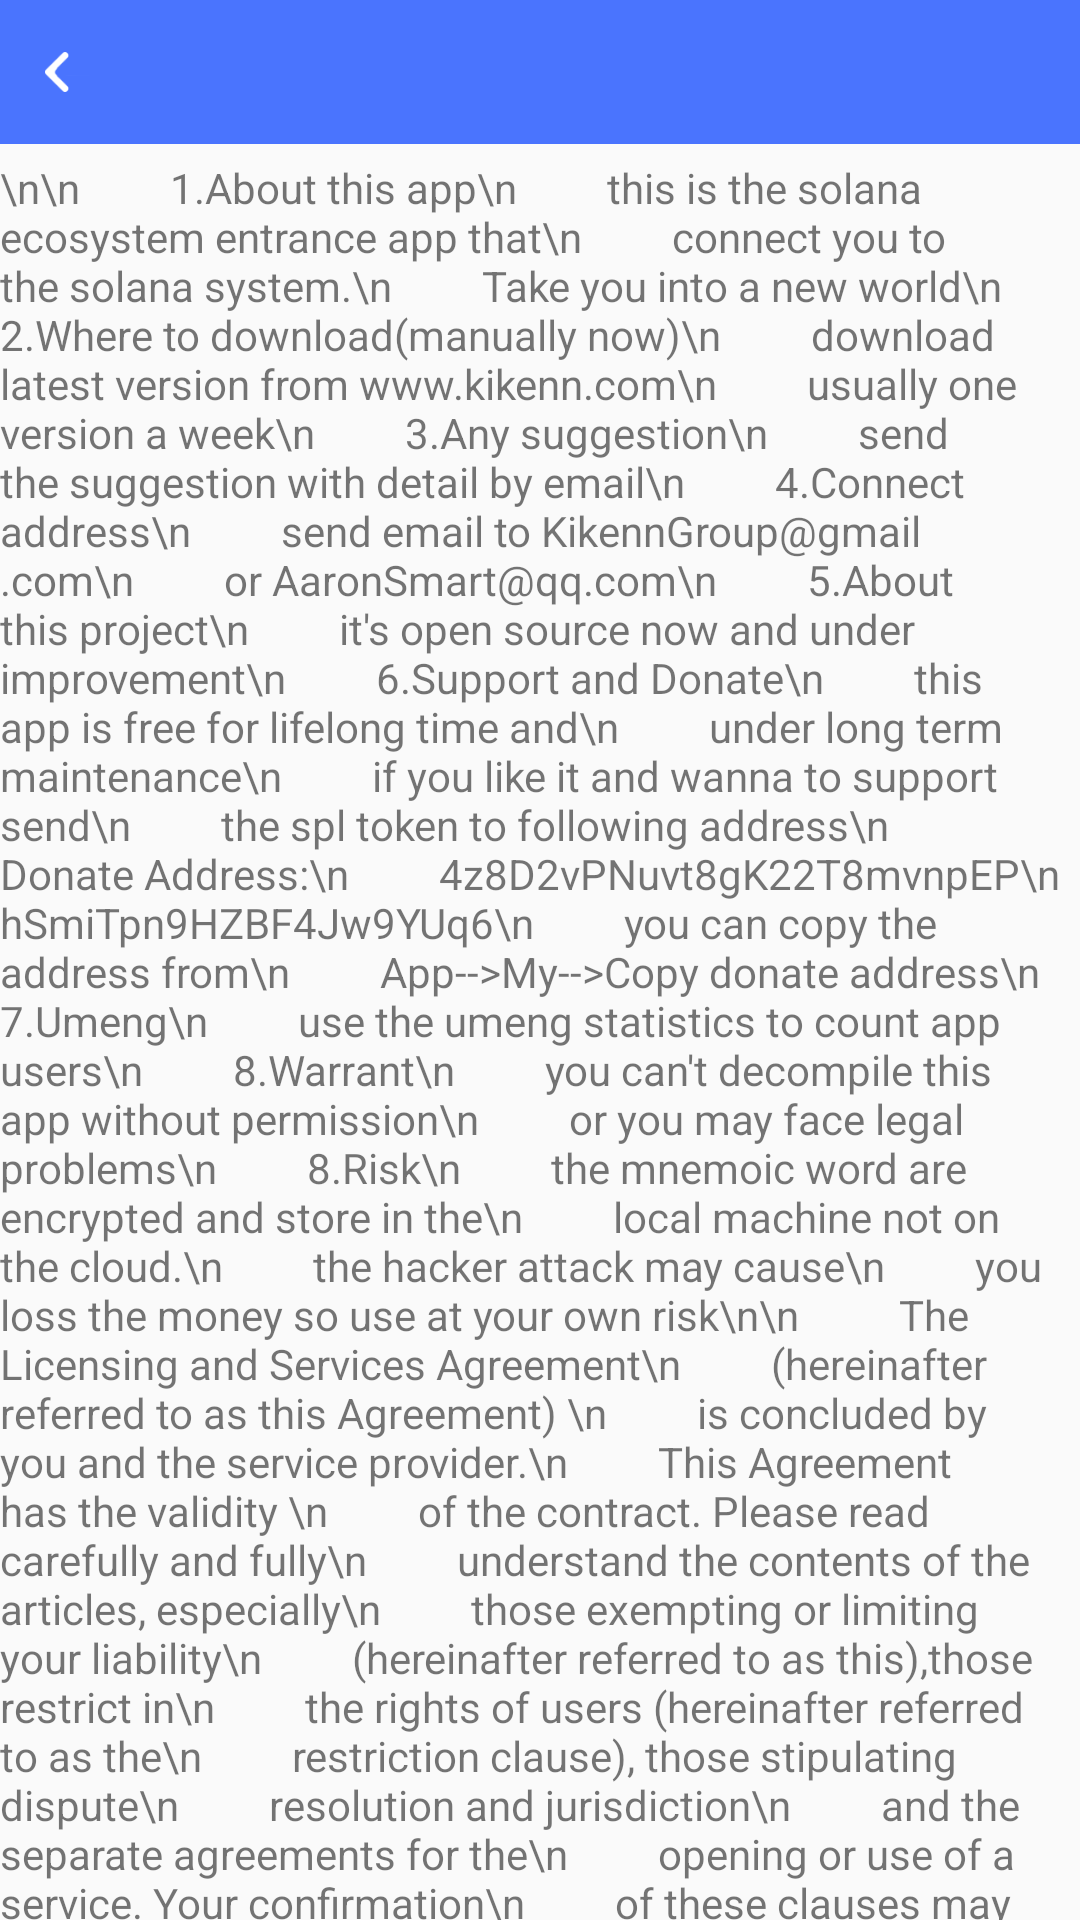

Locate icon controls on the screen. Image size 1080px×1920px, boxes as (x1=x1, y1=y1, x2=x2, y2=y2).
back: (x1=45, y1=52, x2=69, y2=92)
